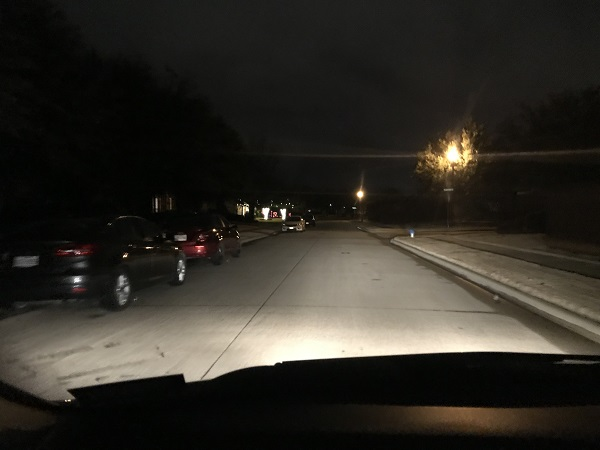car: (7, 211, 187, 313), (163, 210, 243, 265), (282, 214, 304, 231), (298, 210, 315, 226)
